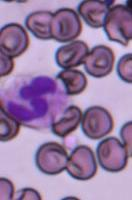N: (2, 72, 69, 128)
